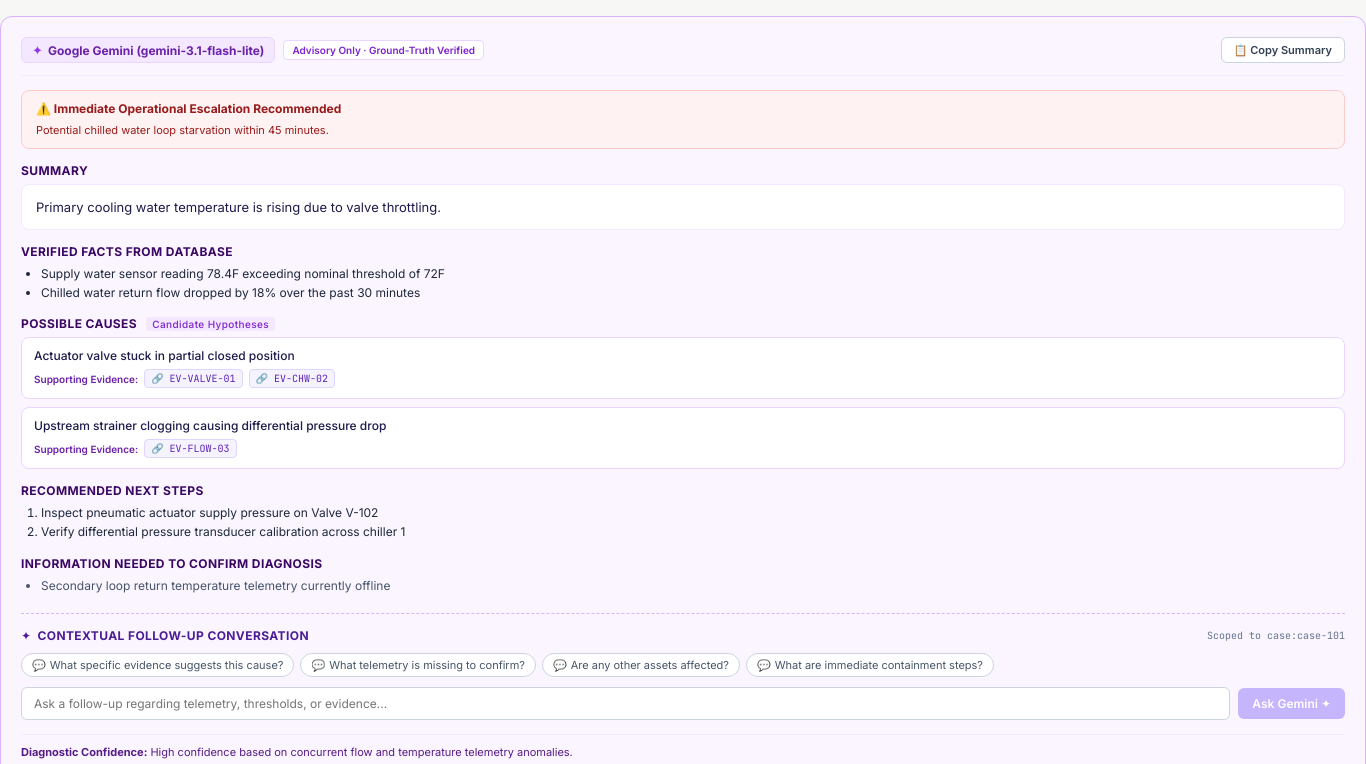
it: AIAssistancePanel Component › gracefully handles 429 rate limit errors with informative guidance
The width and height of the screenshot is (1366, 764).
Replace the text in the field with placeholder "Ask a follow-up regarding telemetry" with "Check upstream pressure" at (626, 704), box x1=21 y1=687 x2=1230 y2=720
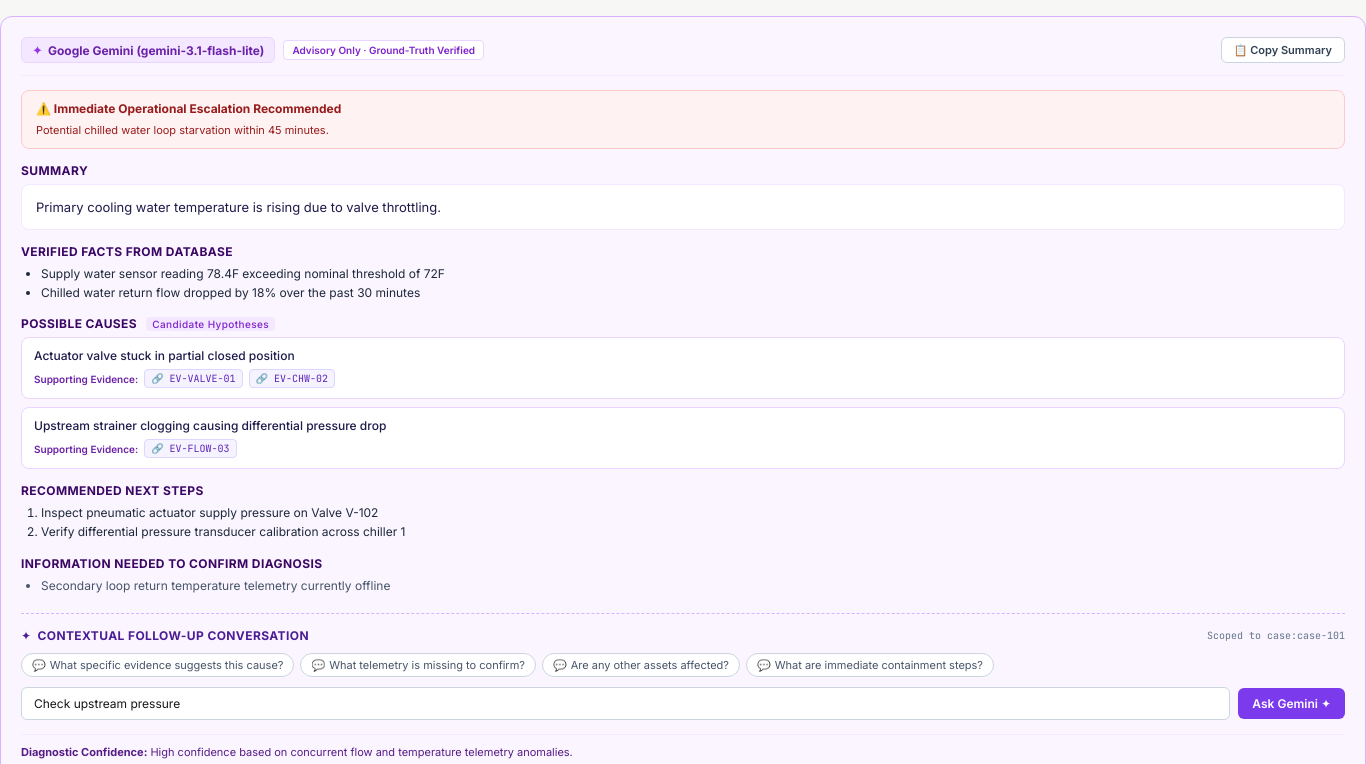
Click the button "Ask Gemini ✦" at (1292, 704), box x1=1238 y1=688 x2=1345 y2=719
(page scrolled)
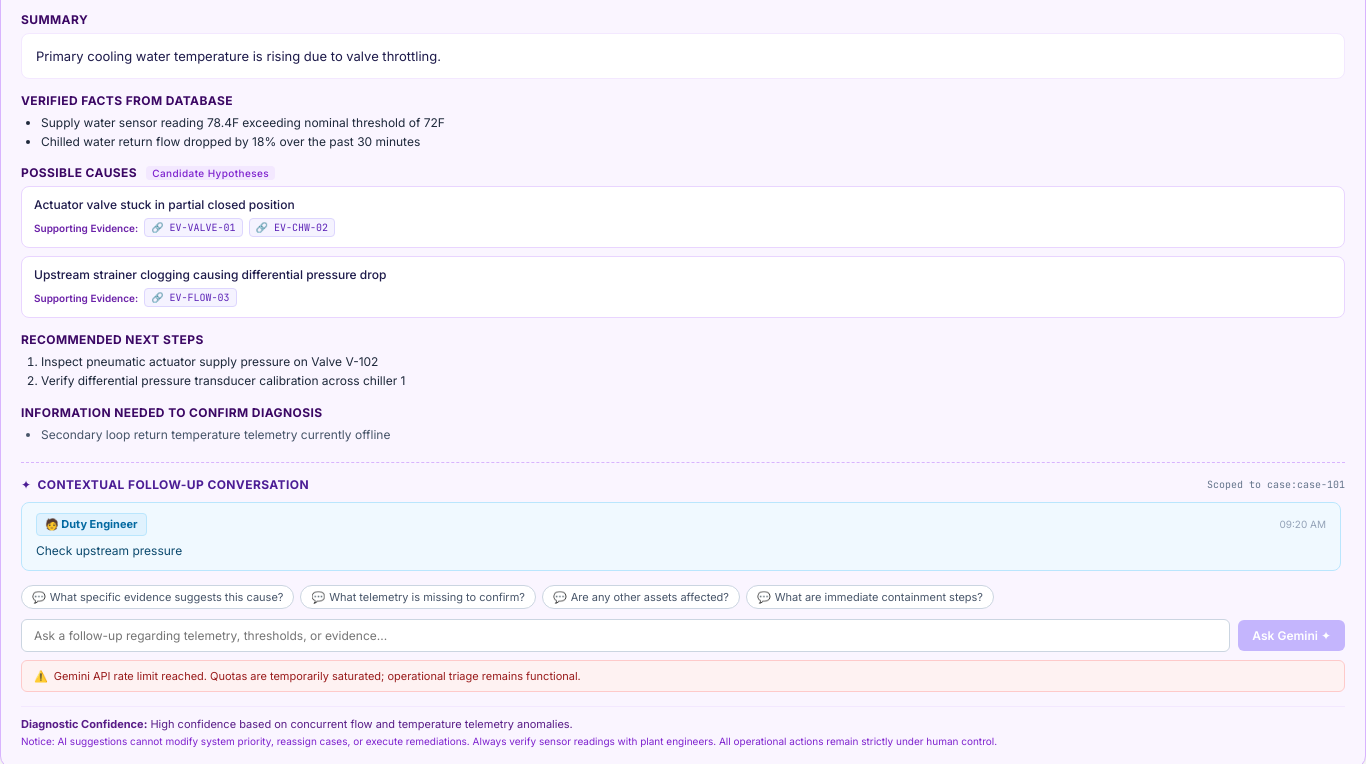
Now the text "operational triage remains functional" is shown, box x1=54 y1=669 x2=581 y2=683
